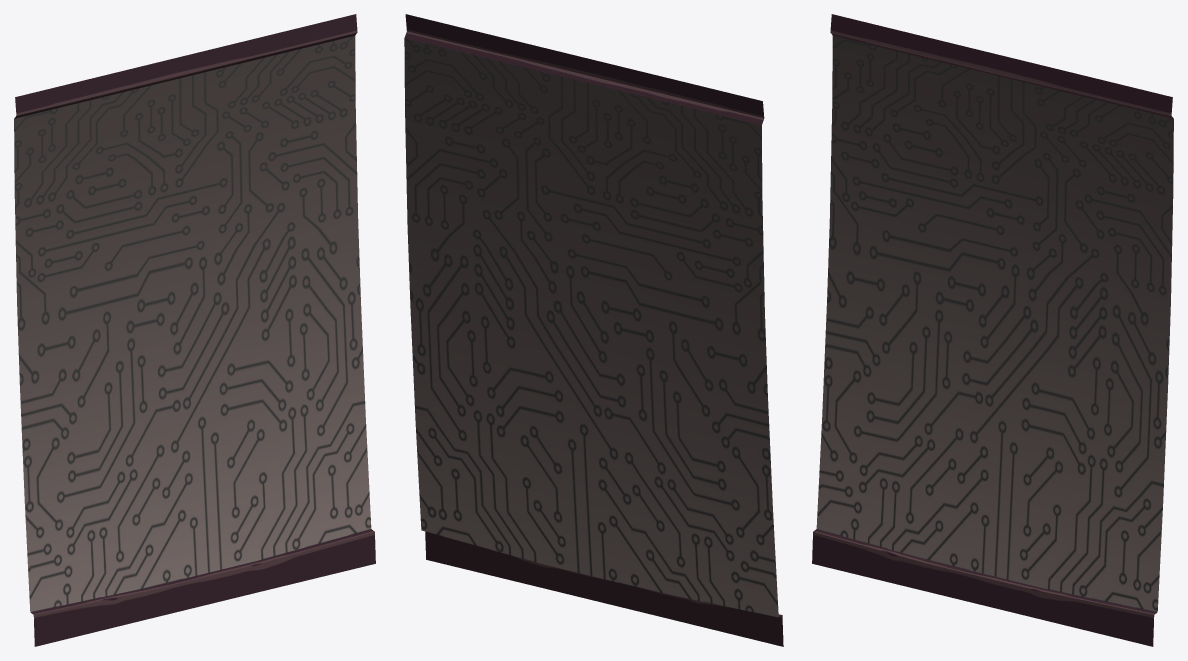
File: Wall2x3Minimal.fbx
3 renders of one model, left to right at view 1: azimuth 30°, elevation 25°; view 2: azimuth 150°, elevation 25°; view 3: azimuth 330°, elevation 25°, orthographic. The views are drawn at different scales.
Parts seen in each view (by area): view 1: Wall_2x3Minimal; view 2: Wall_2x3Minimal; view 3: Wall_2x3Minimal.
Part boxes in pixels (x1=…): Wall_2x3Minimal: x1=14, y1=14, x2=375, y2=646; Wall_2x3Minimal: x1=404, y1=14, x2=783, y2=646; Wall_2x3Minimal: x1=812, y1=14, x2=1173, y2=646.
Bounding box in the file's own units: 200 × 300 × 21.04.
